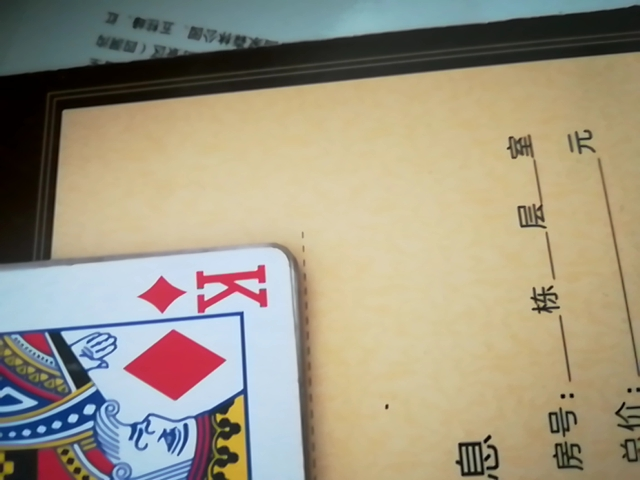fk k: (0, 248, 303, 480)
